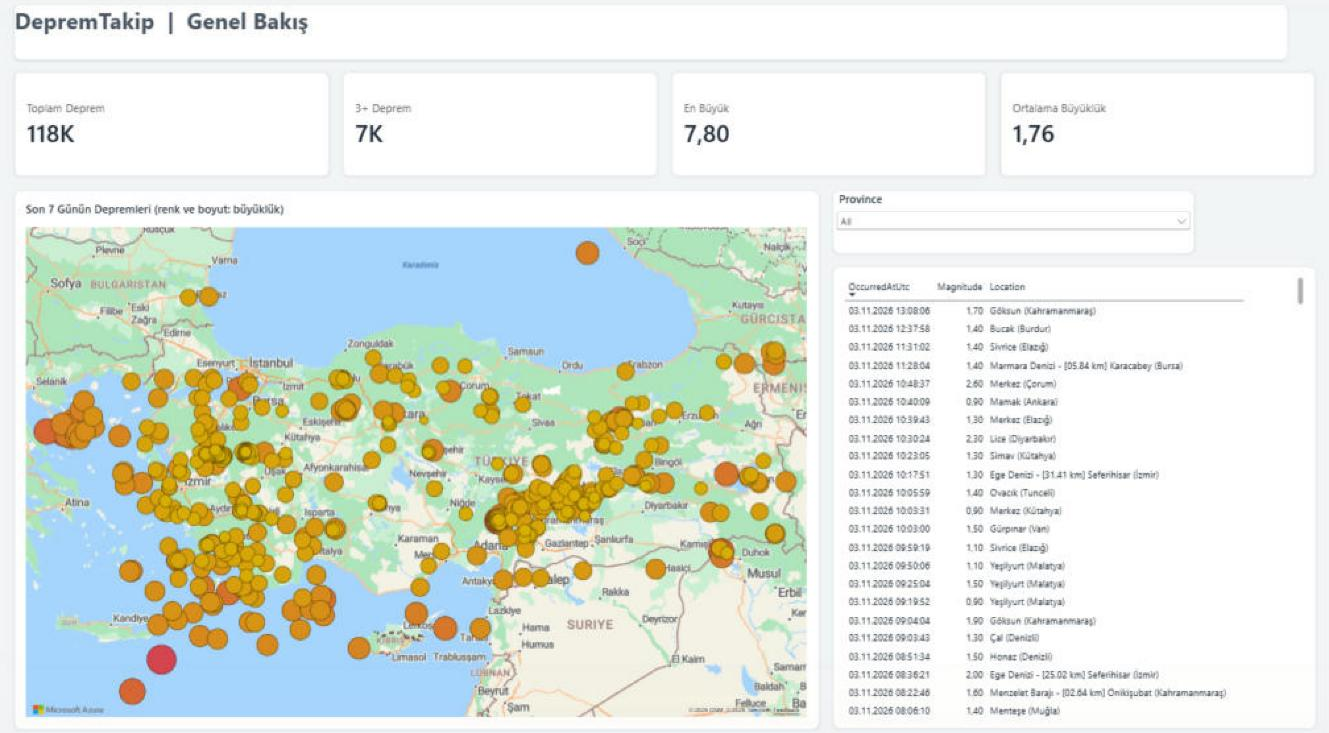

The page's visual inventory and layout, read from the dashboard file:
{"tool":"powerbi","page":{"name":"Genel Bakış","canvas":[1920,1080],"ordinal":0},"visuals":[{"type":"cardVisual","fields":{"Data":["Earthquakes.Toplam Deprem"]},"box":[30,110,450,150],"z":0},{"type":"cardVisual","fields":{"Data":["Earthquakes.3+ Deprem"]},"box":[500,110,450,150],"z":1000},{"type":"cardVisual","fields":{"Data":["Earthquakes.En Büyük"]},"box":[970,110,450,150],"z":2000},{"type":"cardVisual","fields":{"Data":["Earthquakes.Ortalama Büyüklük"]},"box":[1440,110,450,150],"z":3000},{"type":"azureMap","title":"Son 7 Günün Depremleri (renk ve boyut: büyüklük)","fields":{"Size":["Max(Earthquakes.Magnitude)"],"X":["Earthquakes.Longitude"],"Y":["Earthquakes.Latitude"]},"box":[30,280,1150,770],"z":4000},{"type":"slicer","fields":{"Values":["Earthquakes.Province"]},"box":[1200,280,517,90],"z":5000},{"type":"tableEx","fields":{"Values":["Earthquakes.OccurredAtUtc","Earthquakes.Magnitude","Earthquakes.Location"]},"box":[1200,390,690,660],"z":6000},{"type":"textbox","box":[30,15,1820,80],"z":6002}]}

Visuals, with their boxes in screenshot pixels (x1, y1, x2, y2), scaled from the page's 1920x1080 canvas onto the 1329x733 screenshot:
cardVisual - Earthquakes.Toplam Deprem: crop(21, 75, 332, 176)
cardVisual - Earthquakes.3+ Deprem: crop(346, 75, 658, 176)
cardVisual - Earthquakes.En Büyük: crop(671, 75, 983, 176)
cardVisual - Earthquakes.Ortalama Büyüklük: crop(997, 75, 1308, 176)
"Son 7 Günün Depremleri (renk ve boyut: büyüklük)" azureMap: crop(21, 190, 817, 713)
slicer - Earthquakes.Province: crop(831, 190, 1188, 251)
tableEx - Earthquakes.OccurredAtUtc x Earthquakes.Magnitude: crop(831, 265, 1308, 713)
textbox: crop(21, 10, 1281, 64)
